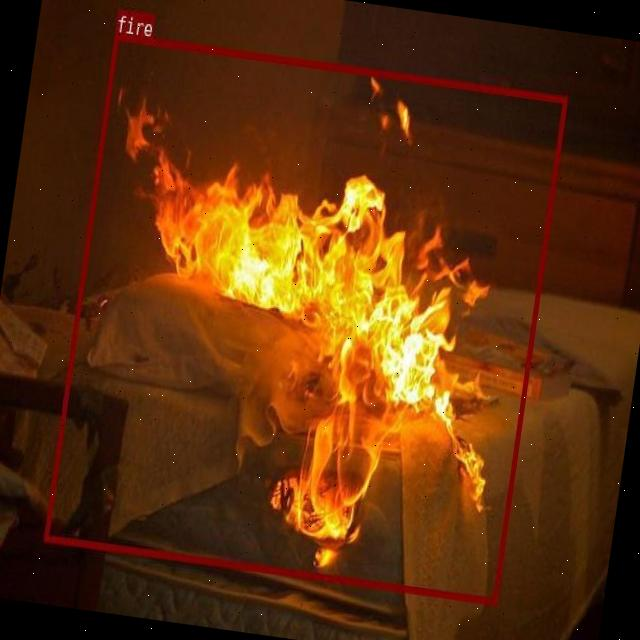fire: (44, 33, 566, 603)
